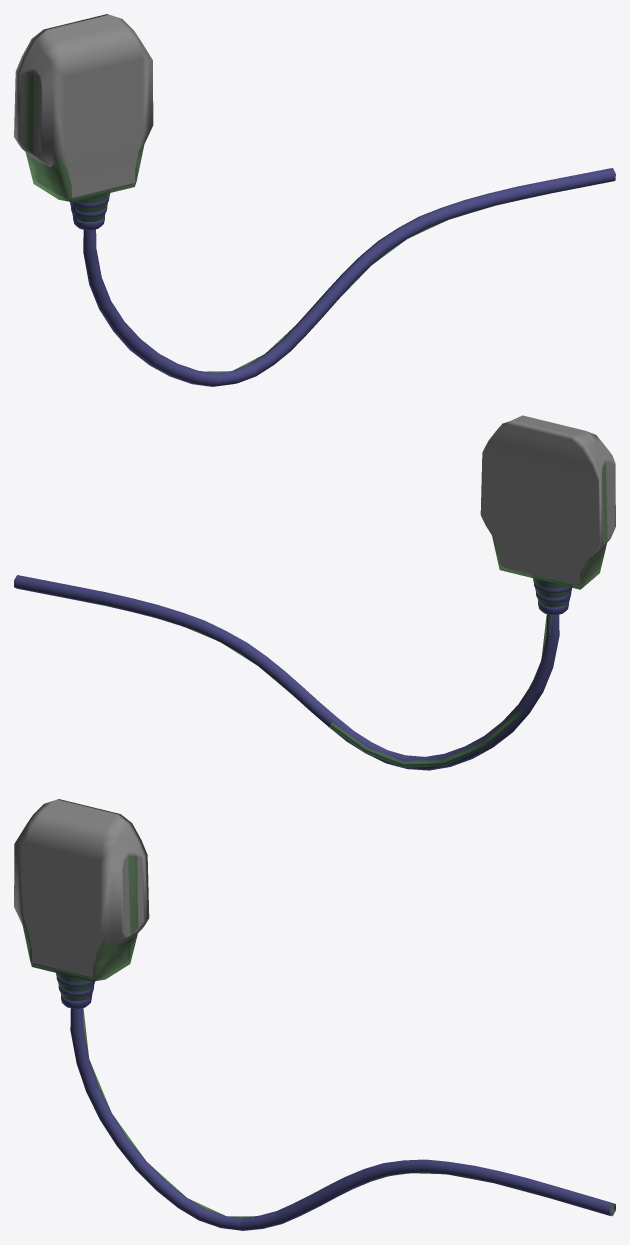
The model's file is PlugCable_04_Mesh.fbx.
3 renders of one model, top to bottom at view 1: azimuth 30°, elevation 25°; view 2: azimuth 150°, elevation 25°; view 3: azimuth 330°, elevation 25°, orthographic. The views are drawn at different scales.
Visible parts, largest first — view 1: PlugCableD_01_LOD0, PlugCableD_01_Col; view 2: PlugCableD_01_LOD0, PlugCableD_01_Col; view 3: PlugCableD_01_LOD0, PlugCableD_01_Col.
Part boxes in pixels (x1=…): PlugCableD_01_LOD0: x1=14, y1=14, x2=615, y2=386; PlugCableD_01_Col: x1=25, y1=72, x2=544, y2=372; PlugCableD_01_LOD0: x1=14, y1=415, x2=615, y2=770; PlugCableD_01_Col: x1=83, y1=463, x2=607, y2=767; PlugCableD_01_LOD0: x1=14, y1=799, x2=615, y2=1230; PlugCableD_01_Col: x1=21, y1=855, x2=615, y2=1217.
Size of what is drawn, in the model's own units: 34.95 by 21.88 by 3.3.
